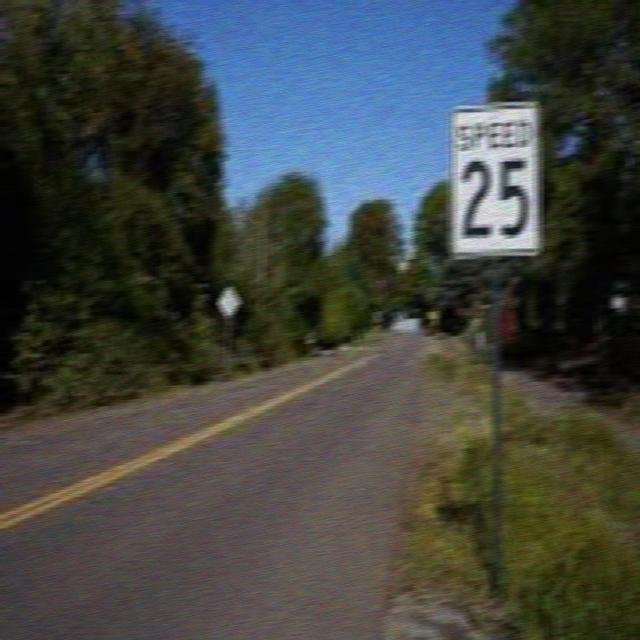speedLimit25: (447, 105, 540, 255)
